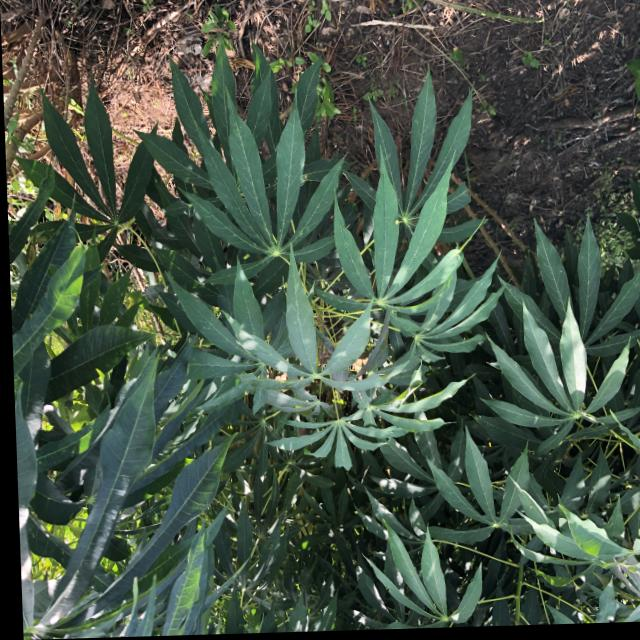Mosca: (381, 211, 410, 230), (193, 252, 211, 269), (239, 243, 252, 265), (530, 407, 541, 429)
